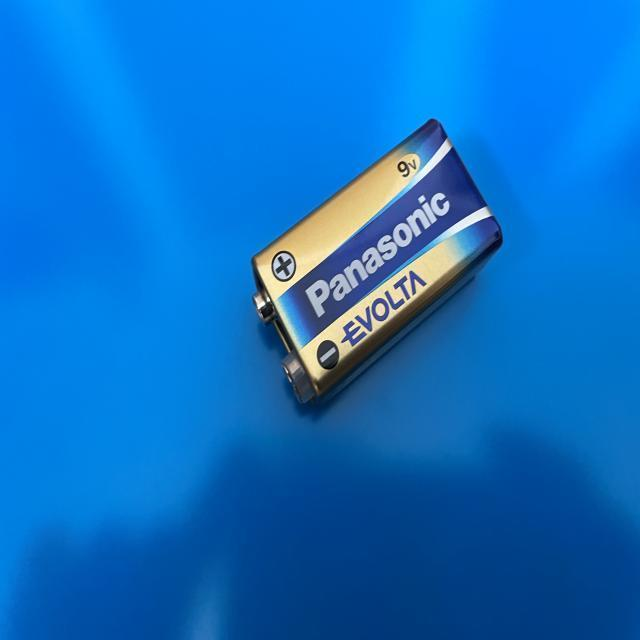9V: (249, 117, 506, 414)
